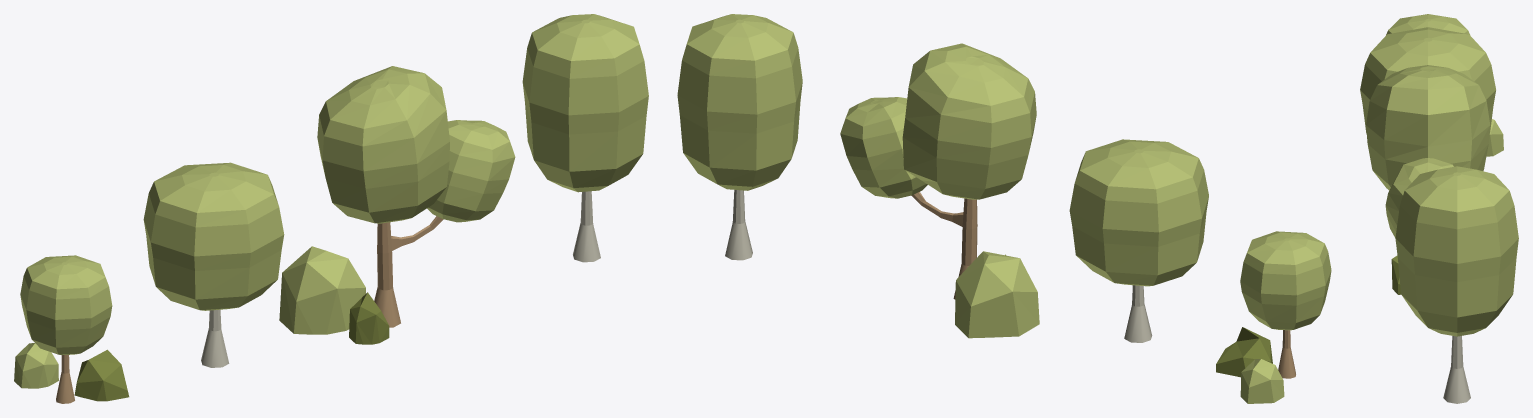
Rendered from Small Trees + Bushes.FBX.
3 views of the same model, side by side, from view 1: azimuth 30°, elevation 25°; view 2: azimuth 150°, elevation 25°; view 3: azimuth 270°, elevation 25° (orthographic). The views are drawn at different scales.
Visible parts, largest first — view 1: Cylinder003, Cylinder004, Cylinder001, Cylinder002, GeoSphere015, GeoSphere012, GeoSphere013, GeoSphere014; view 2: Cylinder003, Cylinder004, Cylinder001, Cylinder002, GeoSphere015, GeoSphere013, GeoSphere012; view 3: Cylinder004, Cylinder003, Cylinder001, Cylinder002, GeoSphere013, GeoSphere014.
Part boxes in pixels (x1=…): Cylinder003: x1=317, y1=66, x2=515, y2=327; Cylinder004: x1=522, y1=14, x2=648, y2=262; Cylinder001: x1=143, y1=162, x2=284, y2=367; Cylinder002: x1=20, y1=255, x2=112, y2=403; GeoSphere015: x1=279, y1=246, x2=365, y2=334; GeoSphere012: x1=74, y1=349, x2=129, y2=401; GeoSphere013: x1=14, y1=343, x2=58, y2=388; GeoSphere014: x1=349, y1=292, x2=389, y2=344; Cylinder003: x1=840, y1=43, x2=1036, y2=299; Cylinder004: x1=677, y1=14, x2=802, y2=260; Cylinder001: x1=1069, y1=139, x2=1208, y2=342; Cylinder002: x1=1240, y1=231, x2=1331, y2=378; GeoSphere015: x1=955, y1=251, x2=1039, y2=338; GeoSphere013: x1=1240, y1=359, x2=1284, y2=403; GeoSphere012: x1=1216, y1=327, x2=1272, y2=377; Cylinder004: x1=1395, y1=166, x2=1518, y2=403; Cylinder003: x1=1366, y1=65, x2=1490, y2=237; Cylinder001: x1=1360, y1=27, x2=1495, y2=133; Cylinder002: x1=1386, y1=14, x2=1469, y2=34; GeoSphere013: x1=1486, y1=119, x2=1503, y2=156; GeoSphere014: x1=1391, y1=255, x2=1400, y2=294.
Bounding box in the file's own units: 217 × 80.24 × 49.71.
